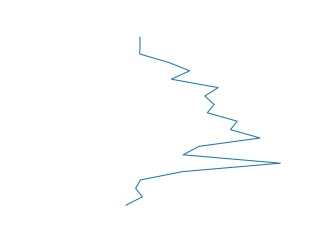floodSwamp: (121, 37, 284, 209)
